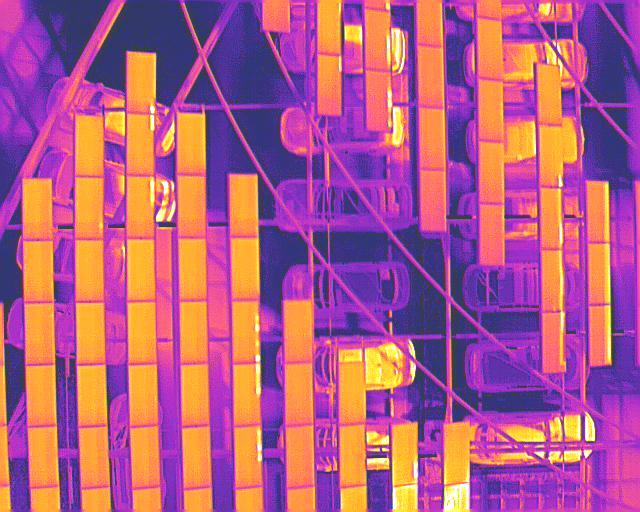Cell: (126, 52, 157, 114)
No-Anomaly: (22, 177, 53, 242), (127, 239, 156, 303), (24, 240, 53, 304), (26, 302, 55, 366), (75, 178, 104, 241), (180, 301, 209, 364), (284, 300, 313, 363), (26, 366, 55, 429), (76, 239, 104, 304), (287, 423, 314, 490), (176, 114, 205, 176), (133, 425, 160, 491), (179, 238, 207, 301), (81, 426, 109, 489), (29, 427, 57, 490), (419, 107, 446, 172), (129, 301, 156, 366), (286, 362, 313, 427), (184, 425, 211, 490), (78, 363, 105, 428), (339, 425, 366, 490), (418, 45, 445, 109), (232, 238, 259, 301), (231, 175, 258, 238), (77, 115, 104, 178), (77, 303, 104, 366), (182, 364, 209, 427), (130, 364, 157, 427), (338, 362, 365, 425), (444, 421, 469, 487), (421, 168, 446, 232), (478, 79, 503, 142), (480, 204, 505, 267), (179, 175, 204, 238), (479, 141, 504, 204), (477, 18, 502, 81), (587, 180, 610, 244), (588, 305, 612, 366), (541, 250, 564, 311), (588, 245, 611, 305), (538, 65, 560, 126), (541, 189, 563, 249), (542, 313, 564, 372), (318, 0, 342, 54)
Unclassified: (127, 113, 158, 175), (126, 176, 155, 238), (234, 362, 261, 427), (233, 302, 260, 364), (364, 9, 391, 71), (235, 426, 261, 490), (392, 422, 418, 485), (366, 70, 392, 131), (319, 54, 344, 117), (540, 126, 563, 189)
